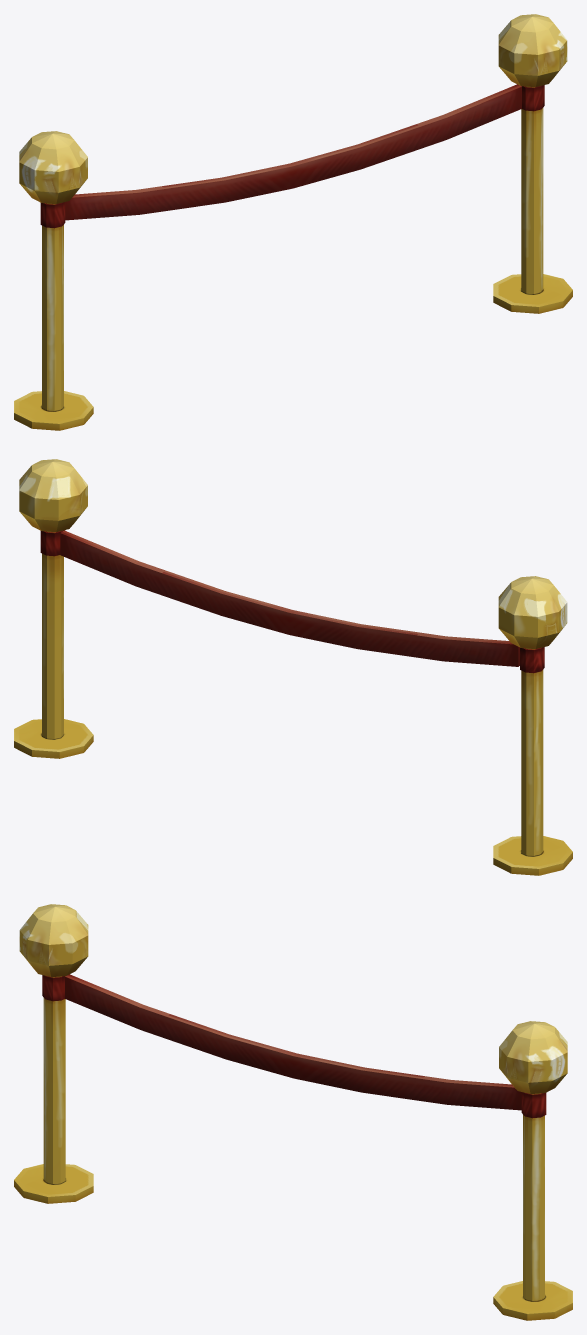
The model's file is FinishLine.gltf.
The picture shows the model from 3 angles, top to bottom: view 1: azimuth 30°, elevation 25°; view 2: azimuth 150°, elevation 25°; view 3: azimuth 330°, elevation 25°; orthographic projection.
Parts seen in each view (by area): view 1: Poles, Ribon, Physics ribon; view 2: Poles, Physics ribon, Ribon; view 3: Poles, Ribon, Physics ribon.
Boxes of the visible parts, x1,y1,x2,y2 form: Poles: [14, 14, 572, 430]; Ribon: [65, 85, 521, 220]; Physics ribon: [74, 84, 518, 195]; Poles: [14, 459, 572, 875]; Physics ribon: [60, 532, 519, 666]; Ribon: [62, 530, 510, 642]; Poles: [14, 904, 572, 1320]; Ribon: [65, 975, 521, 1110]; Physics ribon: [68, 974, 512, 1085].
Bounding box in the file's own units: 7.1 × 3.46 × 0.8919.
Materials: 1 (1 with a texture image).
